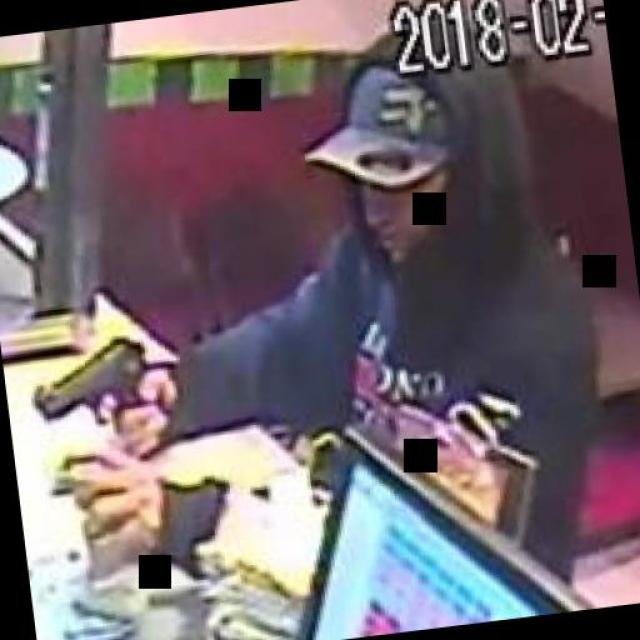gun: (21, 325, 181, 464)
